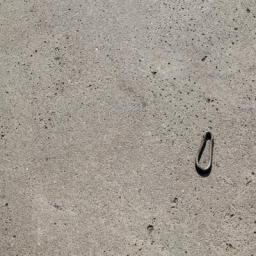FOD: (193, 124, 218, 179)
